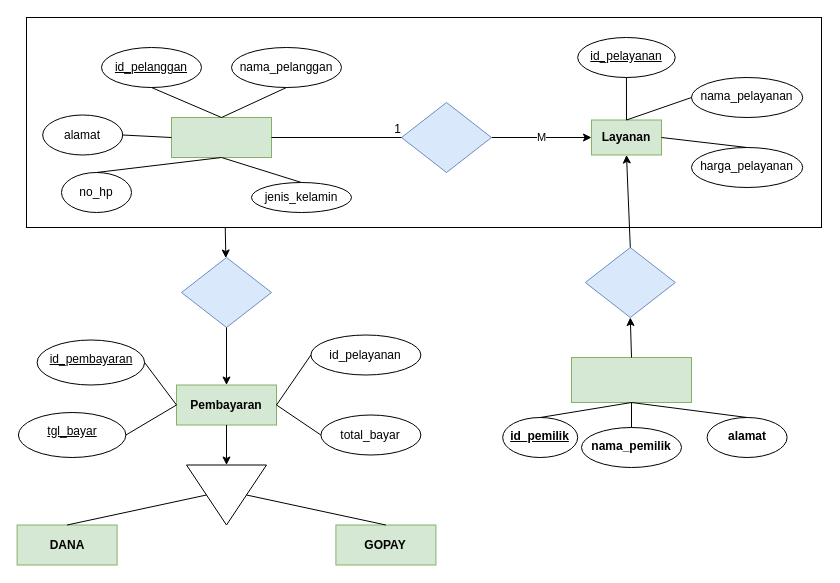
The diagram is 840 pixels wide and 583 high, and some of its shapes have lost their labels. The shapes that lost their labels are listed below. From the top down, each one's centre as x and y in pixels, then its label:
point (221, 137): Pelanggan
point (446, 137): mengakses
point (226, 292): Melakukan
point (629, 282): Mengelola
point (631, 379): Memilih Pemilik Jasa
point (226, 494): is a
